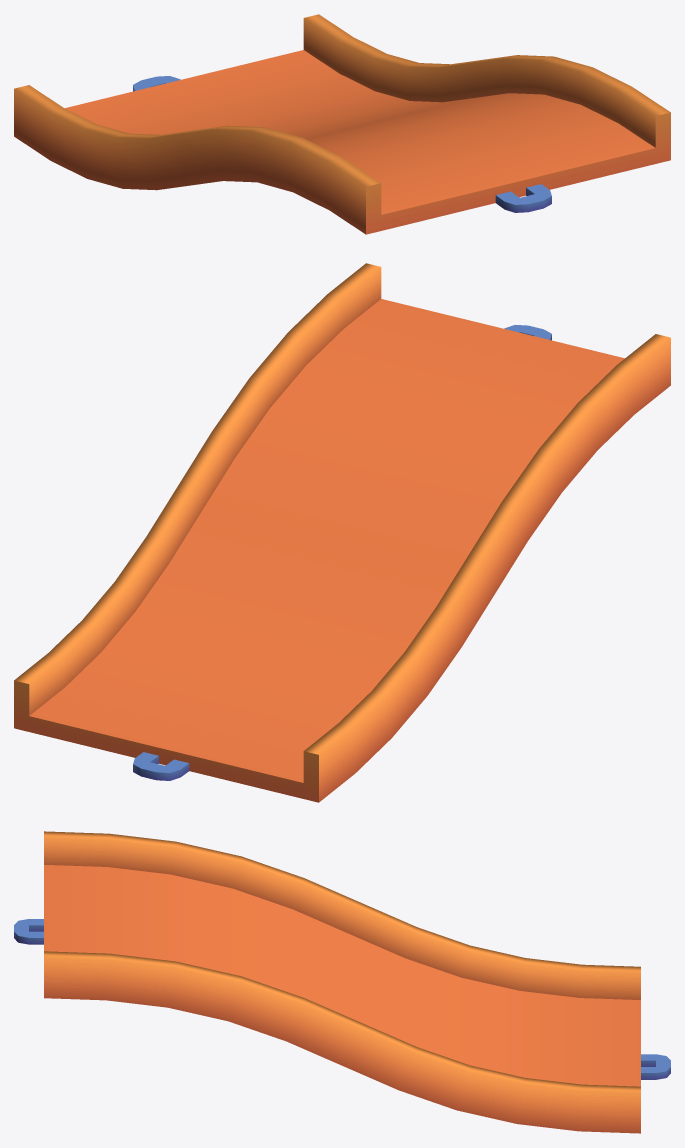
Rendered from track-wide-straight-hill-complete.glb.
3 renders of one model, top to bottom at view 1: azimuth 30°, elevation 25°; view 2: azimuth 150°, elevation 25°; view 3: azimuth 270°, elevation 25°, orthographic. The views are drawn at different scales.
Visible parts, largest first — view 1: track-wide-straight-hill-complete; view 2: track-wide-straight-hill-complete; view 3: track-wide-straight-hill-complete.
Boxes of the visible parts, <box> form: track-wide-straight-hill-complete: <box>14,14,670,234</box>; track-wide-straight-hill-complete: <box>14,263,670,802</box>; track-wide-straight-hill-complete: <box>14,831,670,1133</box>.
Bounding box in the file's own units: 2 × 1.3 × 4.4.
Materials: 1 (1 with a texture image).
